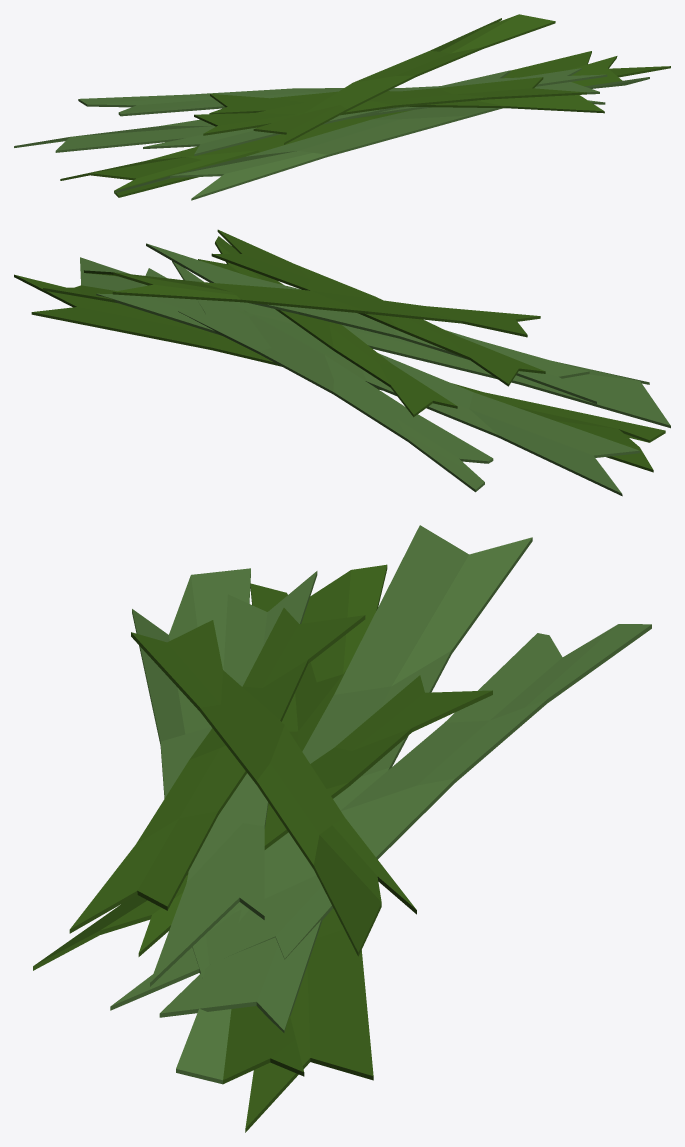
Rendered from plant_fibre.glb.
The picture shows the model from 3 angles, top to bottom: view 1: azimuth 30°, elevation 25°; view 2: azimuth 150°, elevation 25°; view 3: azimuth 270°, elevation 25°; orthographic projection. The views are drawn at different scales.
Visible parts, largest first — view 1: Plane.007; view 2: Plane.007; view 3: Plane.007.
Part boxes in pixels (left/top/right/bottom): Plane.007: left=14, top=14, right=670, bottom=200; Plane.007: left=14, top=229, right=670, bottom=496; Plane.007: left=33, top=525, right=651, bottom=1132.
Bounding box in the file's own units: 1.56 × 0.1489 × 0.7148.
